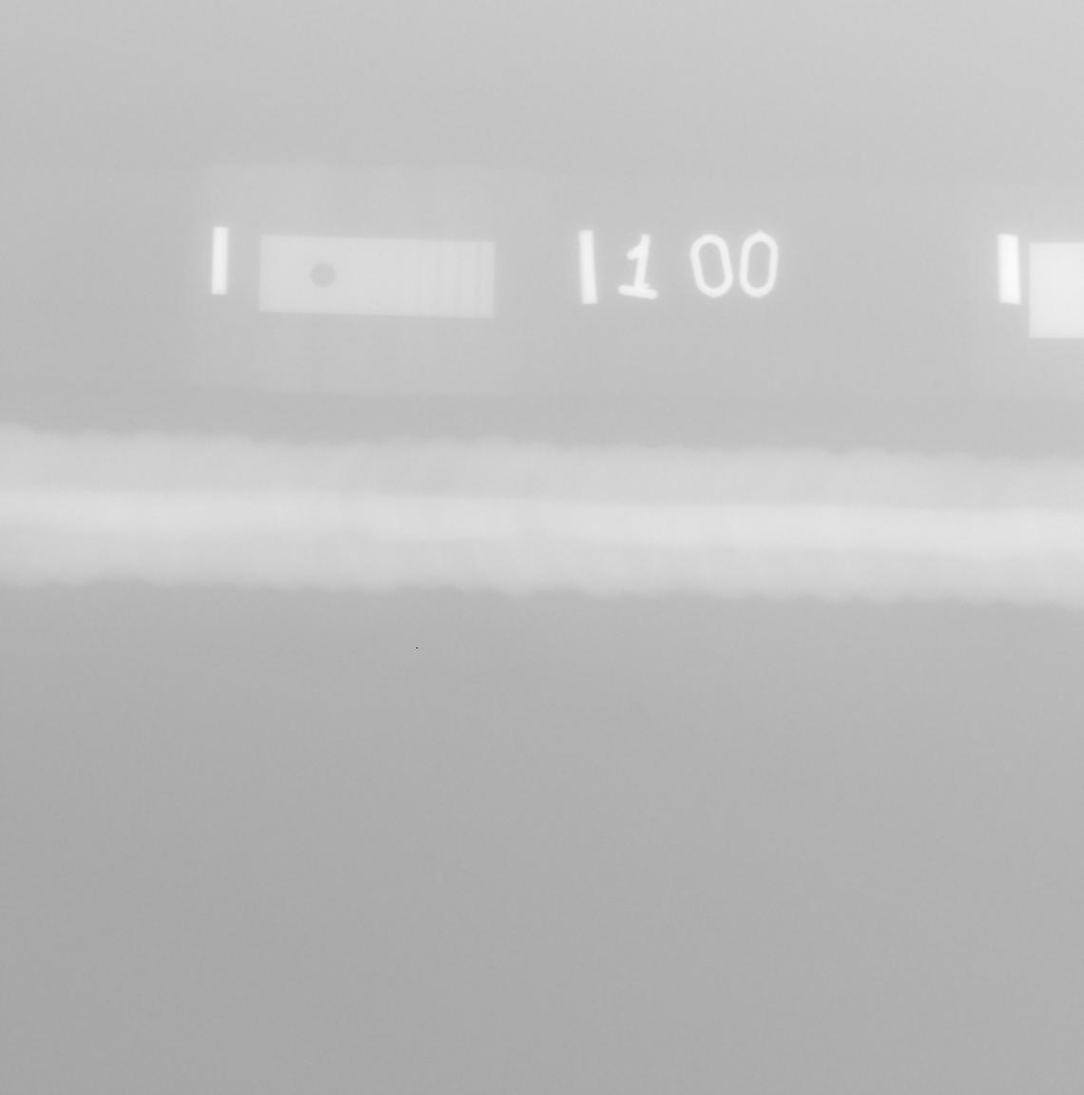Pore/Porosity: (526, 529, 533, 535)
Reference Standard 1: (257, 235, 496, 320)
